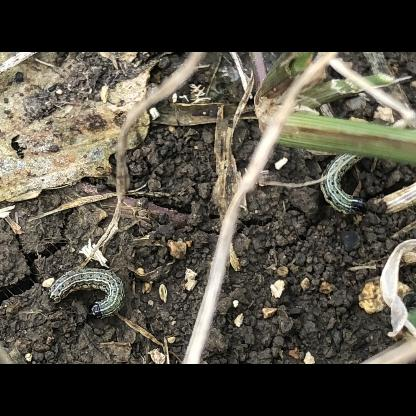Fall Armyworm Larvae: (46, 265, 128, 323), (318, 147, 372, 223)
